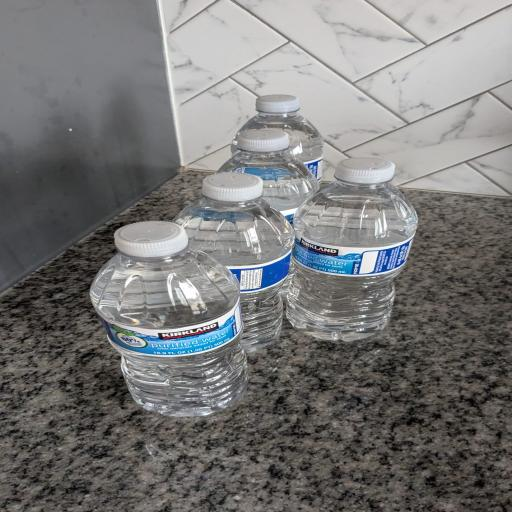waterbottle: (91, 222, 247, 416), (287, 158, 417, 340), (175, 173, 293, 351), (218, 130, 318, 223), (232, 95, 323, 181)
